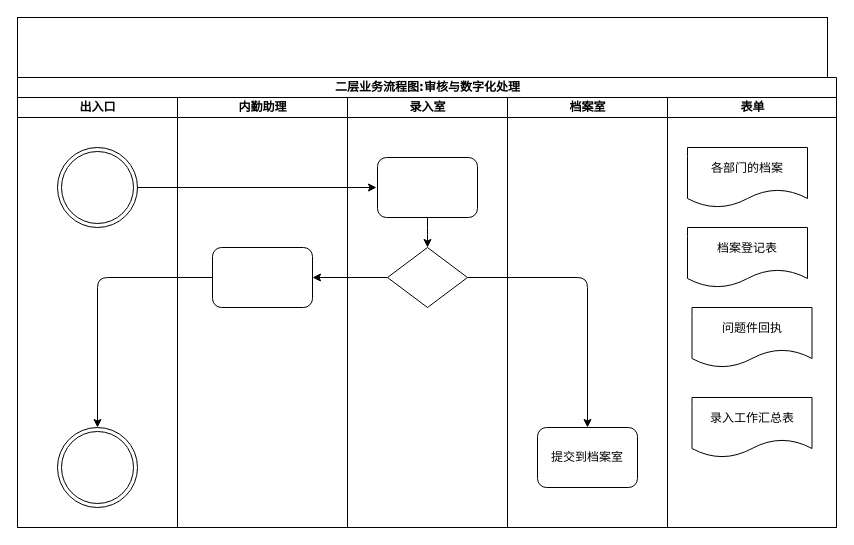
The diagram is 854 pixels wide and 545 high, and some of its shapes have lost their labels. Here are the shapes that lost their labels. From the top down, the centre of each, then its label:
(422,47): 业务名称：中科院遗传与发育研究所档案数字化处理业务流程图 流程编号：da0102 级别：二级 启动部门：录入室
(97,187): 开始
(427,187): 扫描录入
(262,277): 问题反馈
(427,277): 是否通过
(97,467): 结束
